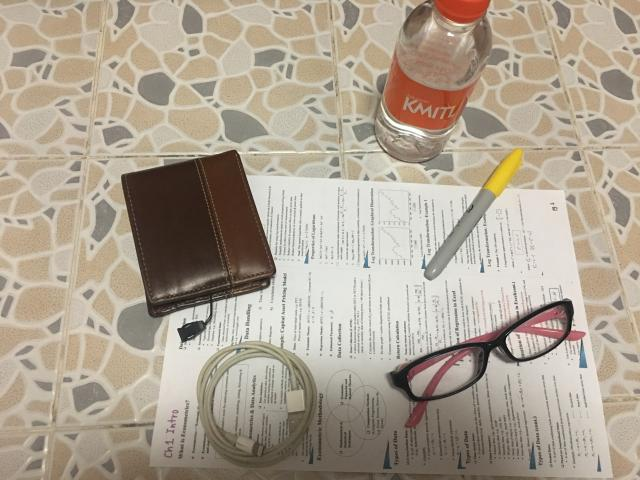Glasses: (390, 299, 574, 428)
Pen: (424, 149, 522, 280)
Wallet: (122, 151, 276, 316)
bottle: (376, 0, 491, 161)
paper: (149, 172, 610, 478)
wire: (198, 341, 318, 468)
